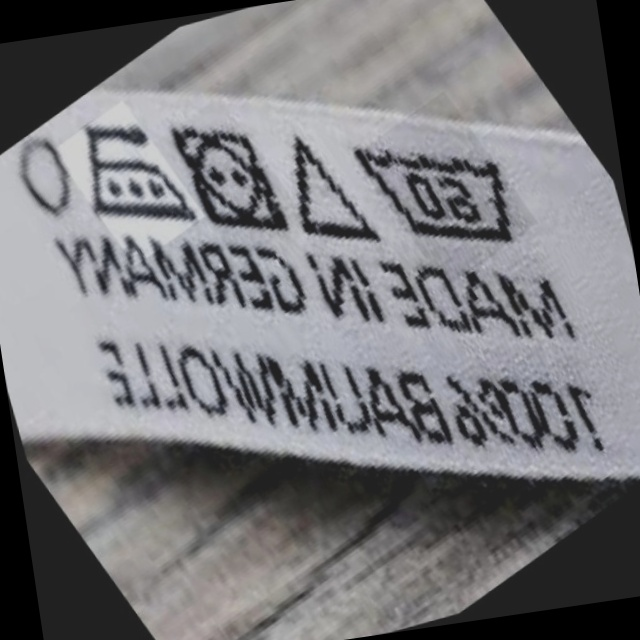60C: (346, 101, 536, 274)
bleach: (271, 116, 377, 264)
iron_high: (64, 97, 196, 250)
tumble_dry_medium: (167, 98, 289, 251)
